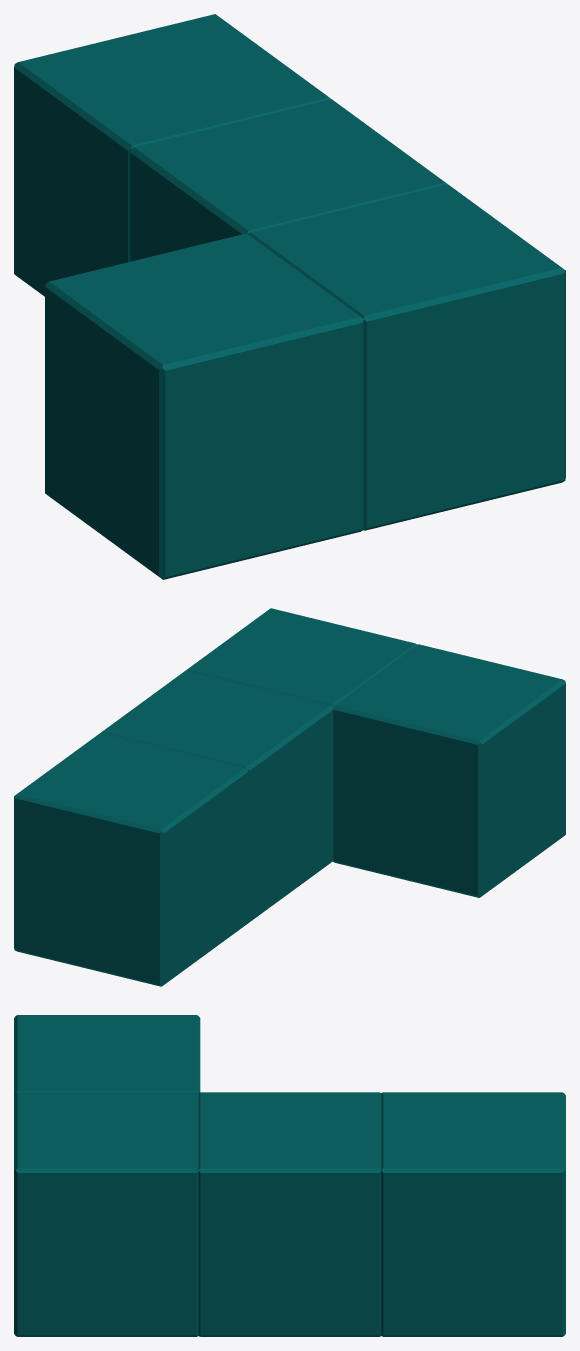
Rendered from PieceTurquoise.fbx.
3 renders of one model, top to bottom at view 1: azimuth 30°, elevation 25°; view 2: azimuth 150°, elevation 25°; view 3: azimuth 270°, elevation 25°, orthographic. The views are drawn at different scales.
Visible parts, largest first — view 1: PieceTurquoise001; view 2: PieceTurquoise001; view 3: PieceTurquoise001.
Part boxes in pixels (x1,y1,x2,y2): PieceTurquoise001: [14, 14, 565, 579]; PieceTurquoise001: [14, 608, 565, 986]; PieceTurquoise001: [14, 1015, 565, 1336].
Size of the model in its own units: 18.23 by 27.26 by 9.21.
